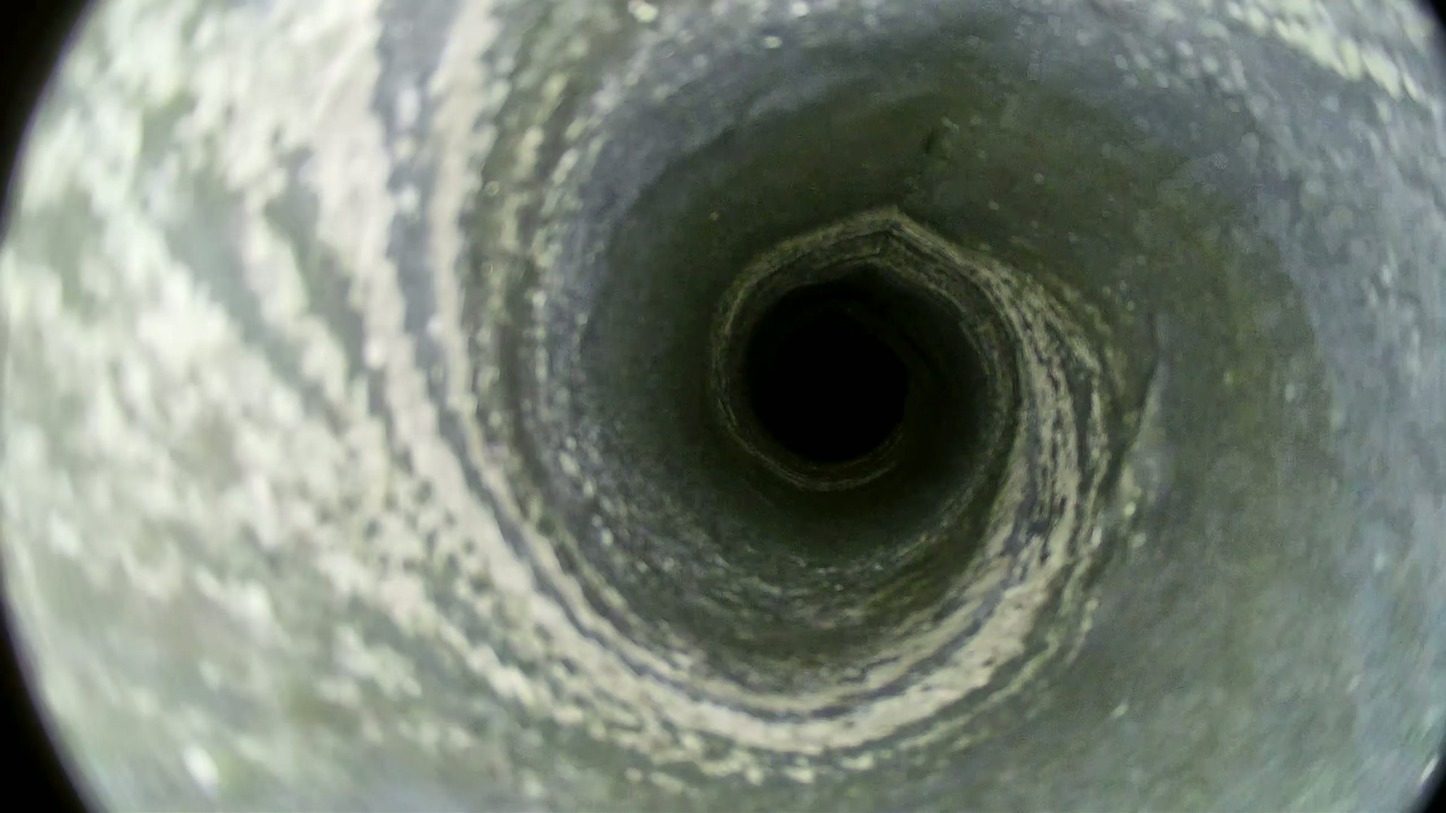hole: (755, 320, 906, 461)
